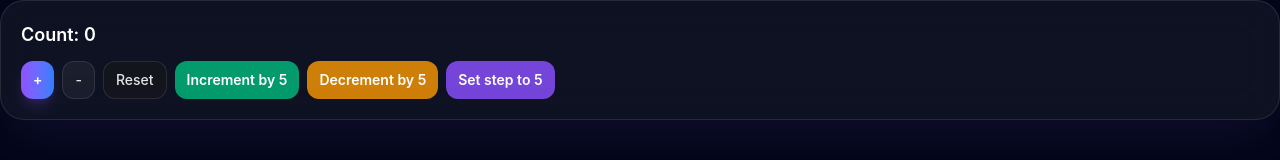
Test: Counter › decrements count when clicking -
Expected: the text "Count: 0" is shown, [21,21,96,49]
Click the button "-": x=79, y=80 [62,61,95,99]
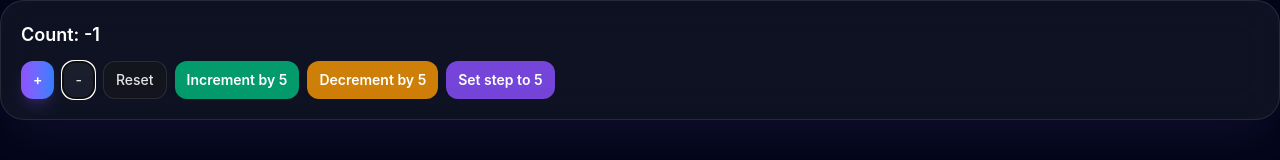
Expected: the text "Count: -1" is shown, [21,21,100,49]
